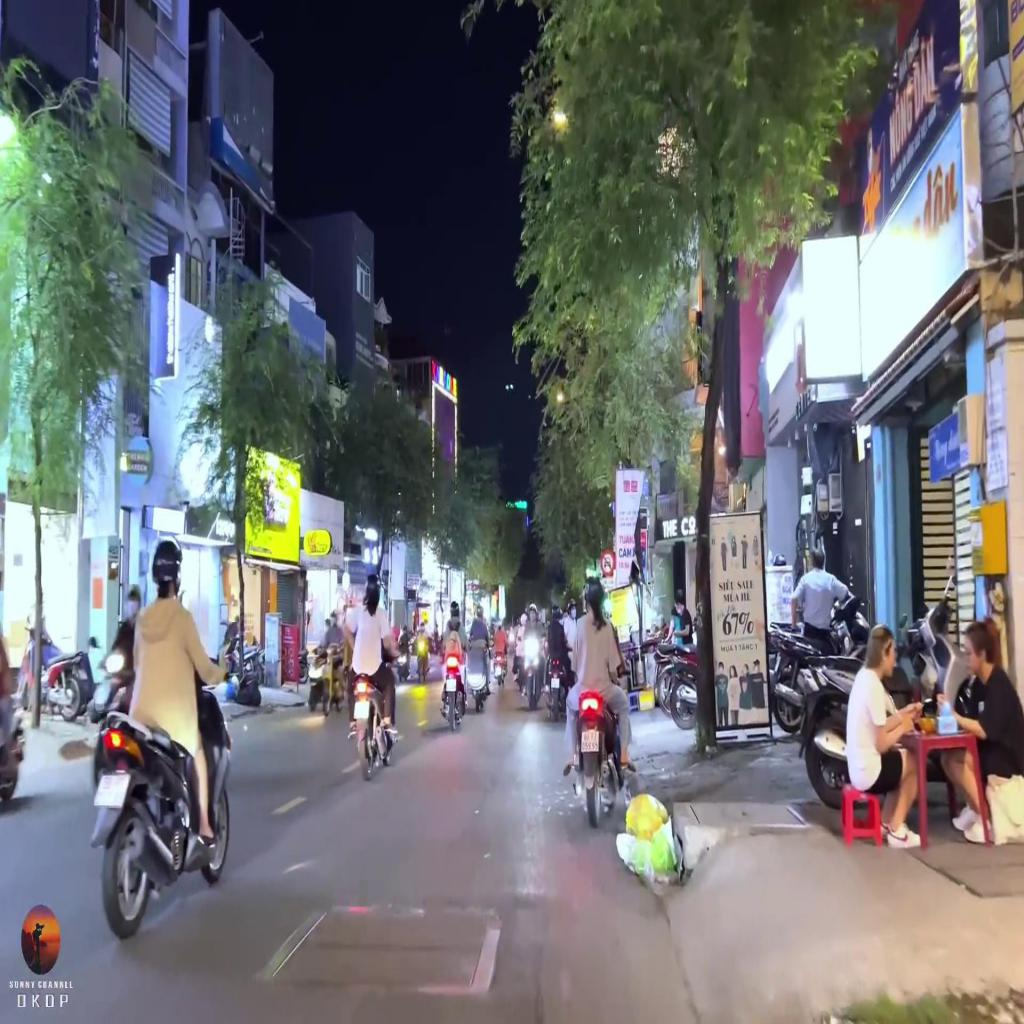cam_o_to: (600, 549, 615, 576)
khac: (601, 578, 614, 587)
